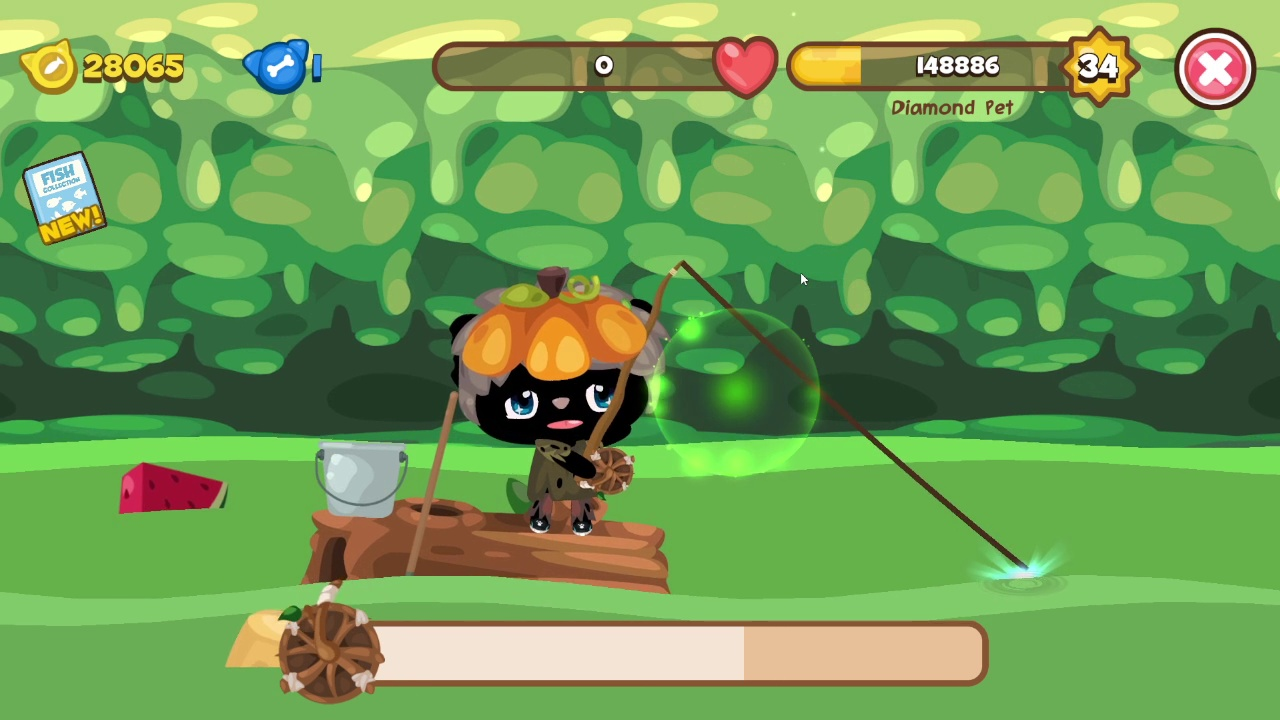point: (652, 310, 823, 483)
